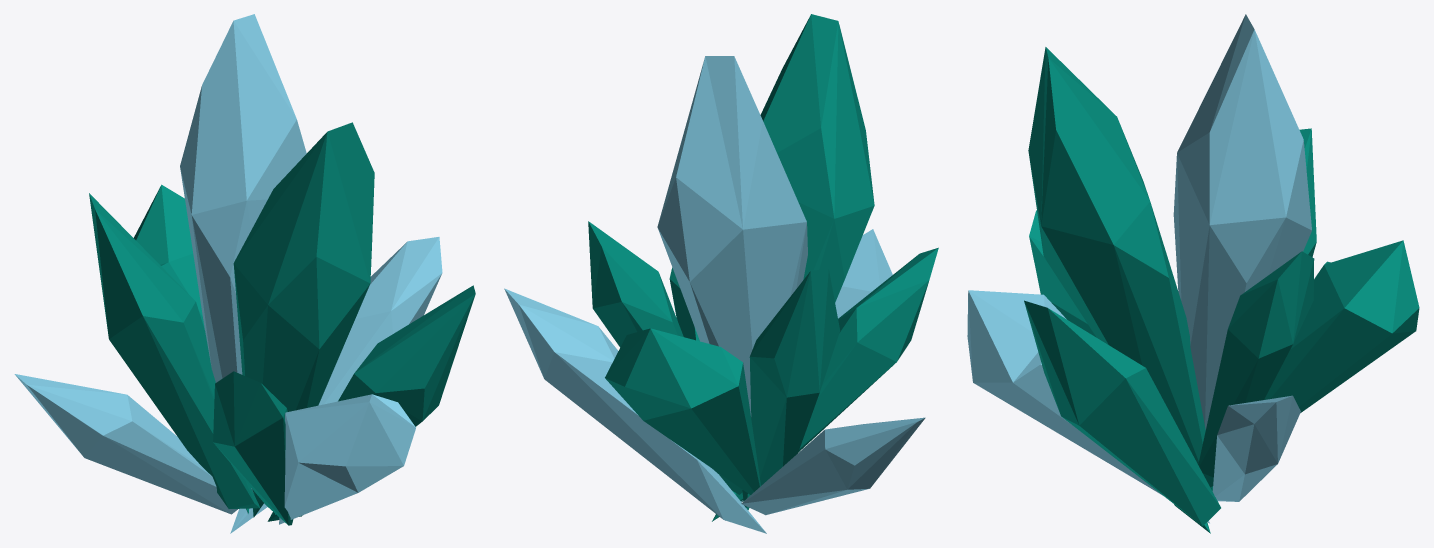
Rendered from jewel_blue_big.fbx.
The picture shows the model from 3 angles, left to right: view 1: azimuth 30°, elevation 25°; view 2: azimuth 150°, elevation 25°; view 3: azimuth 270°, elevation 25°; orthographic projection. The views are drawn at different scales.
Parts seen in each view (by area): view 1: Cube.001; view 2: Cube.001; view 3: Cube.001.
Boxes of the visible parts, x1,y1,x2,y2 form: Cube.001: [14, 14, 475, 533]; Cube.001: [504, 14, 938, 533]; Cube.001: [967, 14, 1419, 533].
Size of the model in its own units: 664 by 748 by 613.
